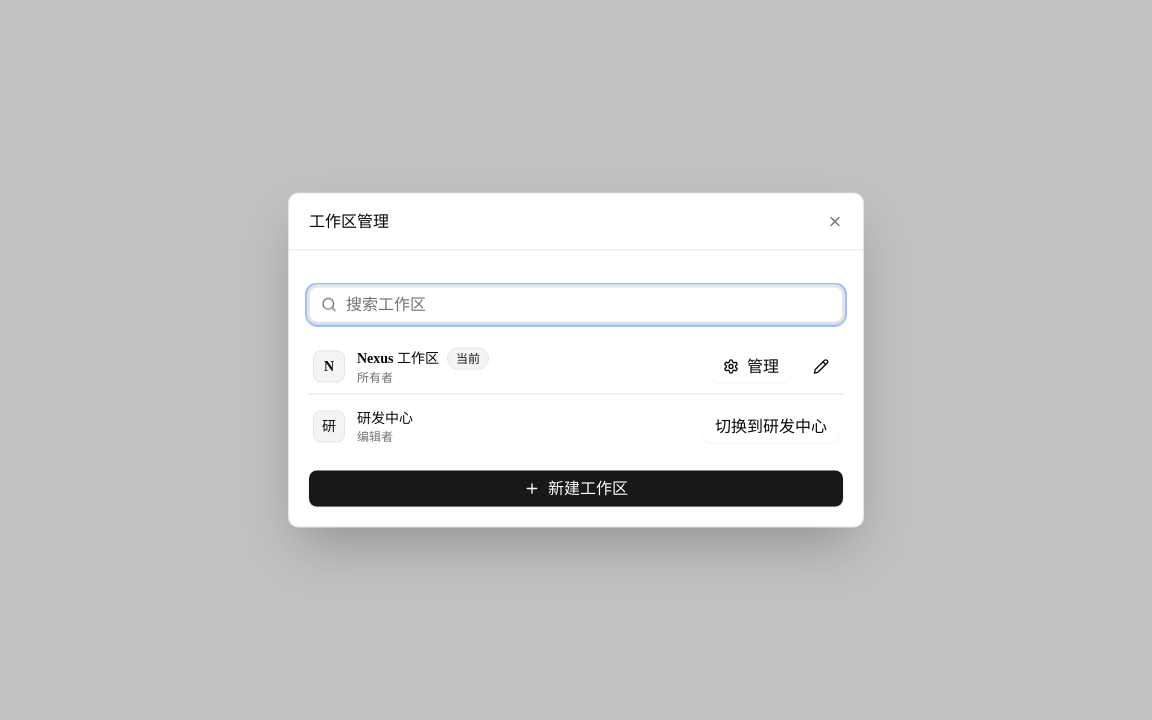
Test: WorkspaceManagerDialog › opens owner management details without exposing management to editors
Click the button with aria-label "管理 Nexus 工作区": {"x": 751, "y": 366} [711, 350, 791, 382]
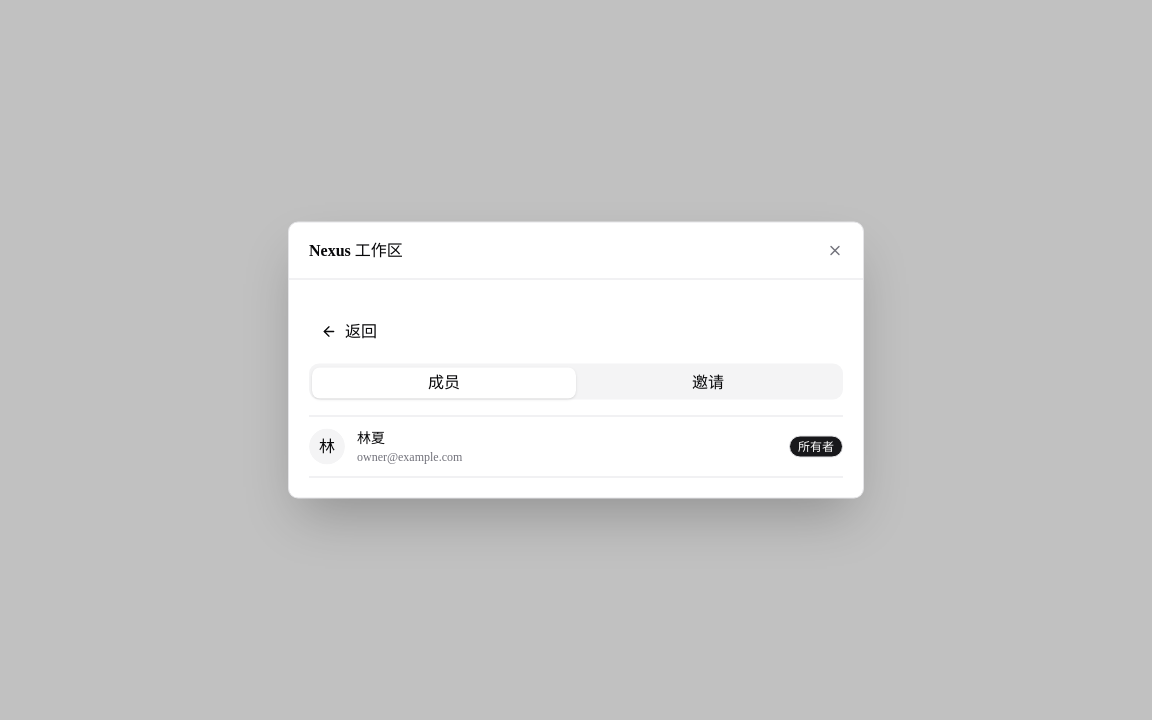
Expected: the heading "Nexus 工作区" is shown, [309, 242, 403, 258]
Expected: the button with aria-label "返回工作区列表" is shown, [309, 316, 389, 348]
Expected: the tab "成员" is shown, [312, 367, 576, 398]
